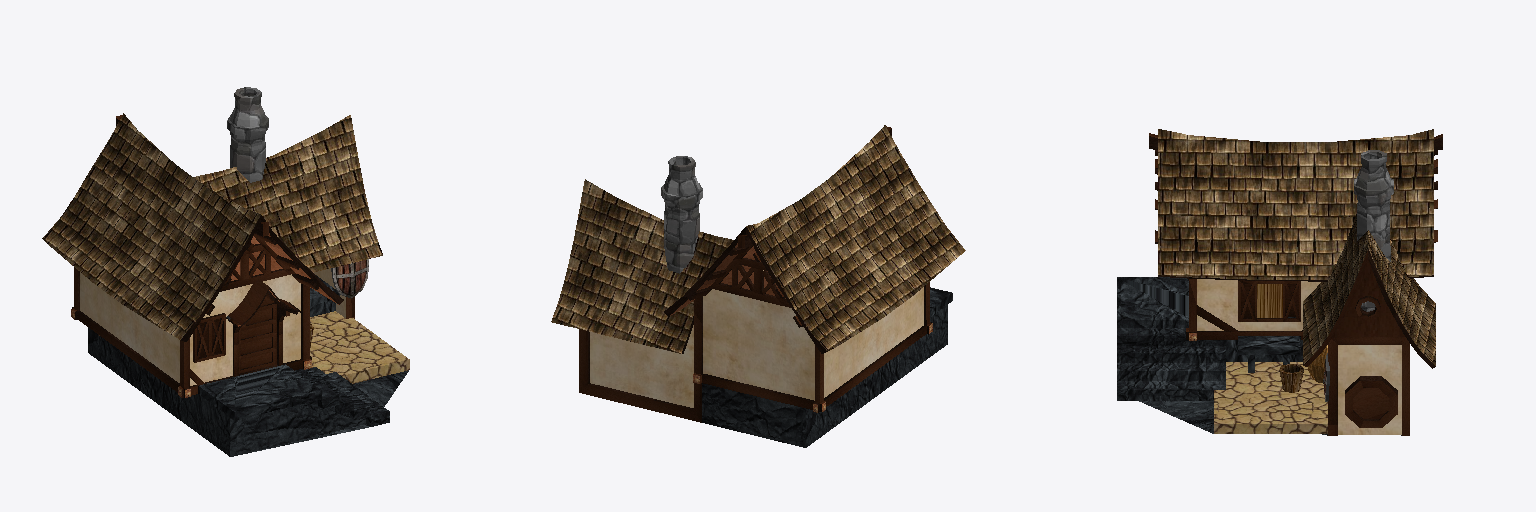
The picture shows the model from 3 angles: view 1: azimuth 30°, elevation 25°; view 2: azimuth 150°, elevation 25°; view 3: azimuth 270°, elevation 25°; orthographic projection.
Parts seen in each view (by area): view 1: Cube_home, ember_armor; view 2: Cube_home; view 3: Cube_home, ember_armor.
Part boxes in pixels (x1,y1,x2,y2): Cube_home: (42, 87, 409, 456); ember_armor: (310, 259, 368, 347); Cube_home: (551, 125, 965, 447); Cube_home: (1117, 129, 1442, 435); ember_armor: (1279, 345, 1329, 401).
Bounding box in the file's own units: 8.25 × 6.78 × 8.4.
Materials: 2 (2 with a texture image).